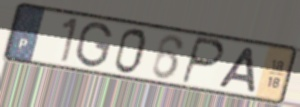0: (112, 27, 150, 75)
1: (59, 17, 79, 65)
6: (150, 33, 187, 81)
A: (215, 45, 258, 95)
G: (74, 21, 114, 69)
P: (179, 35, 227, 87)
